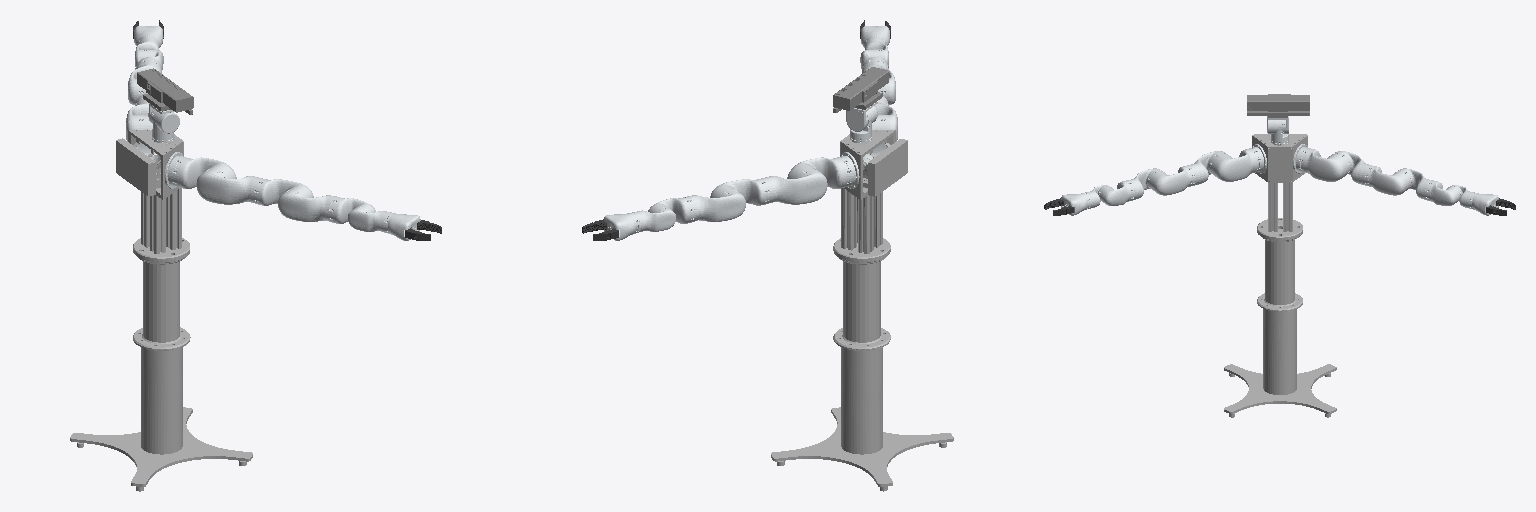
--- What the picture shows (computed from the rendered views, not written in the file) ---
3 views of the same robot in one strip: view 1: azimuth 30°, elevation 25°; view 2: azimuth 150°, elevation 25°; view 3: azimuth 270°, elevation 25° (orthographic).
Robot: mrp2a — 28 links, 27 joints (20 revolute, 7 fixed); root link world; default pose: every joint at zero.
Visible links, largest first — view 1: base_link, R_Link2, Camera_Link, R_Link4, R_Link1, R_Link3, R_Link6, H_Link1, R_Link5, R_Link7, L_Link4; view 2: base_link, L_Link2, Camera_Link, L_Link4, L_Link1, L_Link3, L_Link6, L_Link5, L_Link7; view 3: base_link, Camera_Link, L_Link1, R_Link1, R_Link3, L_Link3, L_Link5, R_Link5, R_Link2, L_Link2.
Link boxes in pixels (<box>): base_link: <box>70,130,252,491</box>; R_Link2: <box>196,169,263,204</box>; Camera_Link: <box>137,68,193,114</box>; R_Link4: <box>278,191,338,222</box>; R_Link1: <box>174,157,236,188</box>; R_Link3: <box>256,179,313,205</box>; R_Link6: <box>348,208,391,232</box>; H_Link1: <box>152,111,179,140</box>; R_Link5: <box>331,197,375,223</box>; R_Link7: <box>386,213,420,240</box>; L_Link4: <box>128,60,161,104</box>; base_link: <box>771,130,953,491</box>; L_Link2: <box>761,169,827,204</box>; Camera_Link: <box>833,67,888,112</box>; L_Link4: <box>685,191,745,222</box>; L_Link1: <box>787,157,849,188</box>; L_Link3: <box>710,179,767,205</box>; L_Link6: <box>632,208,675,232</box>; L_Link5: <box>648,197,692,223</box>; L_Link7: <box>604,213,637,240</box>; base_link: <box>1224,134,1336,417</box>; Camera_Link: <box>1247,94,1309,117</box>; L_Link1: <box>1301,148,1349,181</box>; R_Link1: <box>1210,148,1258,181</box>; R_Link3: <box>1148,166,1192,195</box>; L_Link3: <box>1367,166,1410,195</box>; L_Link5: <box>1427,180,1460,205</box>; R_Link5: <box>1099,180,1132,205</box>; R_Link2: <box>1187,151,1225,185</box>; L_Link2: <box>1334,151,1372,185</box>.
Bounding box of the posed robot: 0.7408 × 1.88 × 1.32 m (x, y, z).
25 mesh visuals loaded from 25 distinct referenced files (25 binary STL).

URDF robot description (mrp2a):
<robot
  name="mrp2a">
  <!-- <link 
    name="base_dummy">
    <visual>
      <origin
        xyz="0 0 0"
        rpy="0 0 0" />
      <geometry>
        <cylinder length="1" radius="0.05" />
      </geometry>
      <material
        name="">
        <color
          rgba="0.752941176470588 0.752941176470588 0.752941176470588 1" />
      </material>
    </visual>
    <collision>
      <origin
        xyz="0 0 0"
        rpy="0 0 0" />
      <geometry>
          <cylinder length="1" radius="0.08" />
      </geometry>
    </collision>
  </link>

  <joint
    name="dummy_fixed"
    type="fixed">
    <origin
      xyz="0 0 0"
      rpy="0 0 0" />
    <parent
      link="base_dummy" />
    <child
      link="base_link" />
    <axis
      xyz="0 0 0" />
  </joint> -->

  <link name="world" />
  <joint name="fixed_world" type="fixed">
  <origin
      xyz="0 0 0"
      rpy="0 0 0" />
  <parent link="world" />
  <child link="base_link" />
  <axis
      xyz="0 0 0" />
  </joint>

  <link
    name="base_link">
    <inertial>
      <origin
        xyz="0.0116056401155761 7.62263465240557E-06 0.417492200672716"
        rpy="0 0 0" />
      <mass
        value="503.167445829256" />
      <inertia
        ixx="39.5687611689678"
        ixy="-0.00180154710849991"
        ixz="-3.1866125593707"
        iyy="92.0490260945021"
        iyz="-0.000604913937372381"
        izz="76.9358059123522" />
    </inertial>
    <visual>
      <origin
        xyz="0 -0.225 -0.35"
        rpy="0 0 0" />
      <geometry>
        <mesh
          filename="package://robot_rviz/meshes/base_link.STL" />
      </geometry>
      <material
        name="">
        <color
          rgba="0.752941176470588 0.752941176470588 0.752941176470588 1" />
      </material>
    </visual>
    <collision>
      <origin
        xyz="0 0 0"
        rpy="0 0 0" />
      <geometry>
        <mesh
          filename="package://robot_rviz/meshes/base_link.STL" />
      </geometry>
    </collision>
  </link>
  <link
    name="L_Link0">
    <inertial>
      <origin
        xyz="-5.00532948422006E-11 -2.57285631688475E-09 0.00789253736797313"
        rpy="0 0 0" />
      <mass
        value="0.223472954734355" />
      <inertia
        ixx="0.000300898395929938"
        ixy="3.61000742934634E-12"
        ixz="6.57618311567675E-12"
        iyy="0.000300898393145345"
        iyz="5.92615943839112E-12"
        izz="0.000558427149998242" />
    </inertial>
    <visual>
      <origin
        xyz="0 0 0"
        rpy="0 0 0" />
      <geometry>
        <mesh
          filename="package://robot_rviz/meshes/L_Link0.STL" />
      </geometry>
      <material
        name="">
        <color
          rgba="0.898039215686275 0.917647058823529 0.929411764705882 1" />
      </material>
    </visual>
    <collision>
      <origin
        xyz="0 0 0"
        rpy="0 0 0" />
      <geometry>
        <mesh
          filename="package://robot_rviz/meshes/L_Link0.STL" />
      </geometry>
    </collision>
  </link>
  <joint
    name="L_fixed"
    type="fixed">
    <origin
      xyz="0.401541651245978 0.0802868417743912 1.04027148358762"
      rpy="1.0471975511966 1.5707963267949 2.0943951023931954923084289221863" />
    <parent
      link="base_link" />
    <child
      link="L_Link0" />
    <axis
      xyz="0 0 0" />
  </joint>
  <link
    name="L_Link1">
    <inertial>
      <origin
        xyz="-5.61077310687885E-05 -0.0142951350447805 0.0860645138410713"
        rpy="0 0 0" />
      <mass
        value="0.479797701810757" />
      <inertia
        ixx="0.00187210715339315"
        ixy="8.48856757722259E-08"
        ixz="7.55666114448996E-07"
        iyy="0.00195379452614282"
        iyz="0.000126977076625014"
        izz="0.000895037663038882" />
    </inertial>
    <visual>
      <origin
        xyz="0 0 0"
        rpy="0 0 0" />
      <geometry>
        <mesh
          filename="package://robot_rviz/meshes/L_Link1.STL" />
      </geometry>
      <material
        name="">
        <color
          rgba="0.898039215686275 0.917647058823529 0.929411764705882 1" />
      </material>
    </visual>
    <collision>
      <origin
        xyz="0 0 0"
        rpy="0 0 0" />
      <geometry>
        <mesh
          filename="package://robot_rviz/meshes/L_Link1.STL" />
      </geometry>
    </collision>
  </link>
  <joint
    name="L_Joint1"
    type="revolute">
    <origin
      xyz="0 0 0.0306"
      rpy="-1.7271E-28 1.5777E-30 3.1554E-30" />
    <parent
      link="L_Link0" />
    <child
      link="L_Link1" />
    <axis
      xyz="0 0 1" />
    <limit
      lower="-3.05"
      upper="3.05"
      effort="0"
      velocity="0" />
  </joint>
  <link
    name="L_Link2">
    <inertial>
      <origin
        xyz="-4.22647804732001E-06 -0.0686708494012157 0.0295427733613017"
        rpy="0 0 0" />
      <mass
        value="0.446126751687594" />
      <inertia
        ixx="0.0021734105386687"
        ixy="2.61059381798853E-07"
        ixz="1.55145893440584E-07"
        iyy="0.000851447231000872"
        iyz="-0.000558302793053726"
        izz="0.00206962716215443" />
    </inertial>
    <visual>
      <origin
        xyz="0 0 0"
        rpy="0 0 0" />
      <geometry>
        <mesh
          filename="package://robot_rviz/meshes/L_Link2.STL" />
      </geometry>
      <material
        name="">
        <color
          rgba="0.898039215686275 0.917647058823529 0.929411764705882 1" />
      </material>
    </visual>
    <collision>
      <origin
        xyz="0 0 0"
        rpy="0 0 0" />
      <geometry>
        <mesh
          filename="package://robot_rviz/meshes/L_Link2.STL" />
      </geometry>
    </collision>
  </link>
  <joint
    name="L_Joint2"
    type="revolute">
    <origin
      xyz="0 0 0.1339"
      rpy="-1.5708 -6.8784E-15 -1.1914E-14" />
    <parent
      link="L_Link1" />
    <child
      link="L_Link2" />
    <axis
      xyz="0 0 1" />
    <limit
      lower="-2.09"
      upper="2.09"
      effort="0"
      velocity="0" />
  </joint>
  <link
    name="L_Link3">
    <inertial>
      <origin
        xyz="-1.75115454241759E-05 -0.0148352799501194 0.082413004478926"
        rpy="0 0 0" />
      <mass
        value="0.369753275800124" />
      <inertia
        ixx="0.00123779807162089"
        ixy="1.74416777990343E-07"
        ixz="4.028833173977E-07"
        iyy="0.00125673245406666"
        iyz="6.76623645400115E-05"
        izz="0.000517699412118933" />
    </inertial>
    <visual>
      <origin
        xyz="0 0 0"
        rpy="0 0 0" />
      <geometry>
        <mesh
          filename="package://robot_rviz/meshes/L_Link3.STL" />
      </geometry>
      <material
        name="">
        <color
          rgba="0.898039215686275 0.917647058823529 0.929411764705882 1" />
      </material>
    </visual>
    <collision>
      <origin
        xyz="0 0 0"
        rpy="0 0 0" />
      <geometry>
        <mesh
          filename="package://robot_rviz/meshes/L_Link3.STL" />
      </geometry>
    </collision>
  </link>
  <joint
    name="L_Joint3"
    type="revolute">
    <origin
      xyz="0 -0.1659 0"
      rpy="1.5708 -1.3171E-14 7.6043E-15" />
    <parent
      link="L_Link2" />
    <child
      link="L_Link3" />
    <axis
      xyz="0 0 1" />
    <limit
      lower="-3.05"
      upper="3.05"
      effort="0"
      velocity="0" />
  </joint>
  <link
    name="L_Link4">
    <inertial>
      <origin
        xyz="-4.19589093851869E-05 -0.0676706530569938 0.0261728375420073"
        rpy="0 0 0" />
      <mass
        value="0.299022063834013" />
      <inertia
        ixx="0.0012651326585819"
        ixy="6.76171354607222E-07"
        ixz="1.79150192674022E-07"
        iyy="0.000483979249770282"
        iyz="-0.00032793976986134"
        izz="0.00121028828173017" />
    </inertial>
    <visual>
      <origin
        xyz="0 0 0"
        rpy="0 0 0" />
      <geometry>
        <mesh
          filename="package://robot_rviz/meshes/L_Link4.STL" />
      </geometry>
      <material
        name="">
        <color
          rgba="0.898039215686275 0.917647058823529 0.929411764705882 1" />
      </material>
    </visual>
    <collision>
      <origin
        xyz="0 0 0"
        rpy="0 0 0" />
      <geometry>
        <mesh
          filename="package://robot_rviz/meshes/L_Link4.STL" />
      </geometry>
    </collision>
  </link>
  <joint
    name="L_Joint4"
    type="revolute">
    <origin
      xyz="0 0 0.1261"
      rpy="-1.5708 -7.9726E-15 -1.3809E-14" />
    <parent
      link="L_Link3" />
    <child
      link="L_Link4" />
    <axis
      xyz="0 0 1" />
    <limit
      lower="-2.09"
      upper="2.09"
      effort="0"
      velocity="0" />
  </joint>
  <link
    name="L_Link5">
    <inertial>
      <origin
        xyz="-2.79984826012658E-05 -0.0111127966196358 0.0529842469650915"
        rpy="0 0 0" />
      <mass
        value="0.210105102195468" />
      <inertia
        ixx="0.000430632583535674"
        ixy="-1.37633239033165E-07"
        ixz="-9.75907473549485E-08"
        iyy="0.000426925124477024"
        iyz="5.35966809682189E-05"
        izz="0.000253639705799832" />
    </inertial>
    <visual>
      <origin
        xyz="0 0 0"
        rpy="0 0 0" />
      <geometry>
        <mesh
          filename="package://robot_rviz/meshes/L_Link5.STL" />
      </geometry>
      <material
        name="">
        <color
          rgba="0.898039215686275 0.917647058823529 0.929411764705882 1" />
      </material>
    </visual>
    <collision>
      <origin
        xyz="0 0 0"
        rpy="0 0 0" />
      <geometry>
        <mesh
          filename="package://robot_rviz/meshes/L_Link5.STL" />
      </geometry>
    </collision>
  </link>
  <joint
    name="L_Joint5"
    type="revolute">
    <origin
      xyz="0 -0.1509 0"
      rpy="1.5708 -1.2856E-14 7.4225E-15" />
    <parent
      link="L_Link4" />
    <child
      link="L_Link5" />
    <axis
      xyz="0 0 1" />
    <limit
      lower="-3.05"
      upper="3.05"
      effort="0"
      velocity="0" />
  </joint>
  <link
    name="L_Link6">
    <inertial>
      <origin
        xyz="6.61440654838863E-05 -0.0464092033770266 0.0142998926979978"
        rpy="0 0 0" />
      <mass
        value="0.152365938496062" />
      <inertia
        ixx="0.000333790388227261"
        ixy="3.85008350227527E-07"
        ixz="2.41753193395084E-07"
        iyy="0.000148214197619039"
        iyz="-7.54134369610282E-05"
        izz="0.000326788645546282" />
    </inertial>
    <visual>
      <origin
        xyz="0 0 0"
        rpy="0 0 0" />
      <geometry>
        <mesh
          filename="package://robot_rviz/meshes/L_Link6.STL" />
      </geometry>
      <material
        name="">
        <color
          rgba="0.898039215686275 0.917647058823529 0.929411764705882 1" />
      </material>
    </visual>
    <collision>
      <origin
        xyz="0 0 0"
        rpy="0 0 0" />
      <geometry>
        <mesh
          filename="package://robot_rviz/meshes/L_Link6.STL" />
      </geometry>
    </collision>
  </link>
  <joint
    name="L_Joint6"
    type="revolute">
    <origin
      xyz="0 0 0.0911"
      rpy="-1.5708 -7.2318E-15 -1.2526E-14" />
    <parent
      link="L_Link5" />
    <child
      link="L_Link6" />
    <axis
      xyz="0 0 1" />
    <limit
      lower="-2.09"
      upper="2.09"
      effort="0"
      velocity="0" />
  </joint>
  <link
    name="L_Link7">
    <inertial>
      <origin
        xyz="-3.35699649318677E-05 -2.8130055156339E-06 0.0435230606728521"
        rpy="0 0 0" />
      <mass
        value="0.189866448136334" />
      <inertia
        ixx="0.000273665673510358"
        ixy="2.19757511429631E-08"
        ixz="4.14753854628336E-08"
        iyy="0.000241558936433134"
        iyz="1.55856396916136E-08"
        izz="0.000241433839895286" />
    </inertial>
    <visual>
      <origin
        xyz="0 0 0"
        rpy="0 0 0" />
      <geometry>
        <mesh
          filename="package://robot_rviz/meshes/L_Link7.STL" />
      </geometry>
      <material
        name="">
        <color
          rgba="0.898039215686275 0.917647058823529 0.929411764705882 1" />
      </material>
    </visual>
    <collision>
      <origin
        xyz="0 0 0"
        rpy="0 0 0" />
      <geometry>
        <mesh
          filename="package://robot_rviz/meshes/L_Link7.STL" />
      </geometry>
    </collision>
  </link>
  <joint
    name="L_Joint7"
    type="revolute">
    <origin
      xyz="0 -0.1069 0"
      rpy="1.5708 -1.2729E-14 7.3492E-15" />
    <parent
      link="L_Link6" />
    <child
      link="L_Link7" />
    <axis
      xyz="0 0 1" />
    <limit
      lower="-3.05"
      upper="3.05"
      effort="0"
      velocity="0" />
  </joint>
  <link
    name="L_left_finger">
    <inertial>
      <origin
        xyz="0.0344260864003008 0.010909869016838 1.2293463802493E-08"
        rpy="0 0 0" />
      <mass
        value="0.0476700444491017" />
      <inertia
        ixx="5.21235147485969E-06"
        ixy="1.63723669343646E-07"
        ixz="1.90271401200849E-11"
        iyy="3.02971293146477E-05"
        iyz="-6.15604627115701E-12"
        izz="2.85611105712804E-05" />
    </inertial>
    <visual>
      <origin
        xyz="0 0 0"
        rpy="0 0 0" />
      <geometry>
        <mesh
          filename="package://robot_rviz/meshes/L_left_finger.STL" />
      </geometry>
      <material
        name="">
        <color
          rgba="0.298039215686275 0.298039215686275 0.298039215686275 1" />
      </material>
    </visual>
    <collision>
      <origin
        xyz="0 0 0"
        rpy="0 0 0" />
      <geometry>
        <mesh
          filename="package://robot_rviz/meshes/L_left_finger.STL" />
      </geometry>
    </collision>
  </link>
  <joint
    name="L_left_joint"
    type="revolute">
    <origin
      xyz="0 0.028 0.0806"
      rpy="-1.5708 -1.5653 1.5708" />
    <parent
      link="L_Link7" />
    <child
      link="L_left_finger" />
    <axis
      xyz="0 0 1" />
    <limit
      lower="-1.57"
      upper="1.57"
      effort="0"
      velocity="0" />
  </joint>
  <link
    name="L_right_finger">
    <inertial>
      <origin
        xyz="0.0343738108391702 -0.0114248408797415 -1.15433491654215E-08"
        rpy="0 0 0" />
      <mass
        value="0.0476700572031979" />
      <inertia
        ixx="5.1384484209657E-06"
        ixy="6.56366148953293E-07"
        ixz="-2.5753435705972E-11"
        iyy="3.02664921090384E-05"
        iyz="-5.71395212742962E-12"
        izz="2.84565694707725E-05" />
    </inertial>
    <visual>
      <origin
        xyz="0 0 0"
        rpy="0 0 0" />
      <geometry>
        <mesh
          filename="package://robot_rviz/meshes/L_right_finger.STL" />
      </geometry>
      <material
        name="">
        <color
          rgba="0.298039215686275 0.298039215686275 0.298039215686275 1" />
      </material>
    </visual>
    <collision>
      <origin
        xyz="0 0 0"
        rpy="0 0 0" />
      <geometry>
        <mesh
          filename="package://robot_rviz/meshes/L_right_finger.STL" />
      </geometry>
    </collision>
  </link>
  <joint
    name="L_right_joint"
    type="revolute">
    <origin
      xyz="0 -0.028 0.0806"
      rpy="-1.5708 -1.5599 1.5708" />
    <parent
      link="L_Link7" />
    <child
      link="L_right_finger" />
    <axis
      xyz="0 0 1" />
    <limit
      lower="-1.57"
      upper="1.57"
      effort="0"
      velocity="0" />
  </joint>
  <link
    name="L_ee" />
  <joint
    name="L_end_fixed"
    type="fixed">
    <origin
      xyz="0 0 0.165"
      rpy="-1.82997712798868E-28 0 -3.15544362088405E-30" />
    <parent
      link="L_Link7" />
    <child
      link="L_ee" />
    <axis
      xyz="0 0 0" />
  </joint>
  <link
    name="R_Link0">
    <inertial>
      <origin
        xyz="-5.00535168868055E-11 -2.57285659444051E-09 0.00789253736797302"
        rpy="0 0 0" />
      <mass
        value="0.223472954734356" />
      <inertia
        ixx="0.000300898395929939"
        ixy="3.6100072822455E-12"
        ixz="6.57618405467455E-12"
        iyy="0.000300898393145346"
        iyz="5.9261598856246E-12"
        izz="0.000558427149998244" />
    </inertial>
    <visual>
      <origin
        xyz="0 0 0"
        rpy="0 0 0" />
      <geometry>
        <mesh
          filename="package://robot_rviz/meshes/R_Link0.STL" />
      </geometry>
      <material
        name="">
        <color
          rgba="0.898039215686275 0.917647058823529 0.929411764705882 1" />
      </material>
    </visual>
    <collision>
      <origin
        xyz="0 0 0"
        rpy="0 0 0" />
      <geometry>
        <mesh
          filename="package://robot_rviz/meshes/R_Link0.STL" />
      </geometry>
    </collision>
  </link>
  <joint
    name="R_fixed"
    type="fixed">
    <origin
      xyz="0.40154 -0.080287 1.0403"
      rpy="1.0472 -1.5708 1.0471975511965977461542144610932" />
    <parent
      link="base_link" />
    <child
      link="R_Link0" />
    <axis
      xyz="0 0 0" />
  </joint>
  <link
    name="R_Link1">
    <inertial>
      <origin
        xyz="-5.61072148668185E-05 -0.0142951353992923 0.0861636477119259"
        rpy="0 0 0" />
      <mass
        value="0.479797742374358" />
      <inertia
        ixx="0.00187210719283673"
        ixy="8.49019868743665E-08"
        ixz="7.55626229620109E-07"
        iyy="0.00195379460117118"
        iyz="0.000126977101176485"
        izz="0.000895037720805486" />
    </inertial>
    <visual>
      <origin
        xyz="0 0 0"
        rpy="0 0 0" />
      <geometry>
        <mesh
          filename="package://robot_rviz/meshes/R_Link1.STL" />
      </geometry>
      <material
        name="">
        <color
          rgba="0.898039215686275 0.917647058823529 0.929411764705882 1" />
      </material>
    </visual>
    <collision>
      <origin
        xyz="0 0 0"
        rpy="0 0 0" />
      <geometry>
        <mesh
          filename="package://robot_rviz/meshes/R_Link1.STL" />
      </geometry>
    </collision>
  </link>
  <joint
    name="R_Joint1"
    type="revolute">
    <origin
      xyz="0 0 0.030501"
      rpy="-7.3566E-28 -3.1554E-30 3.9782E-14" />
    <parent
      link="R_Link0" />
    <child
      link="R_Link1" />
    <axis
      xyz="0 0 1" />
    <limit
      lower="-3.05"
      upper="3.05"
      effort="0"
      velocity="0" />
  </joint>
  <link
    name="R_Link2">
    <inertial>
      <origin
        xyz="-4.23559618156766E-06 -0.0686708524722193 0.0295427694562012"
        rpy="0 0 0" />
      <mass
        value="0.446126638336131" />
      <inertia
        ixx="0.00217341040951626"
        ixy="2.61085934763301E-07"
        ixz="1.55189970462644E-07"
        iyy="0.00085144701302756"
        iyz="-0.000558302708861282"
        izz="0.00206962697259797" />
    </inertial>
    <visual>
      <origin
        xyz="0 0 0"
        rpy="0 0 0" />
      <geometry>
        <mesh
          filename="package://robot_rviz/meshes/R_Link2.STL" />
      </geometry>
      <material
        name="">
        <color
          rgba="0.898039215686275 0.917647058823529 0.929411764705882 1" />
      </material>
    </visual>
    <collision>
      <origin
        xyz="0 0 0"
        rpy="0 0 0" />
      <geometry>
        <mesh
          filename="package://robot_rviz/meshes/R_Link2.STL" />
      </geometry>
    </collision>
  </link>
  <joint
    name="R_Joint2"
    type="revolute">
    <origin
      xyz="0 0 0.134"
      rpy="-1.5708 -2.2968E-14 -3.9782E-14" />
    <parent
      link="R_Link1" />
    <child
      link="R_Link2" />
    <axis
      xyz="0 0 1" />
    <limit
      lower="-2.09"
      upper="2.09"
      effort="0"
      velocity="0" />
  </joint>
  <link
    name="R_Link3">
    <inertial>
      <origin
        xyz="-1.74956927427861E-05 -0.0148360675202772 0.0824136347131282"
        rpy="0 0 0" />
      <mass
        value="0.369749907628908" />
      <inertia
        ixx="0.00123777240608711"
        ixy="1.77510255388424E-07"
        ixz="4.01191203097331E-07"
        iyy="0.00125672179257768"
        iyz="6.76484823504997E-05"
        izz="0.000517689455158085" />
    </inertial>
    <visual>
      <origin
        xyz="0 0 0"
        rpy="0 0 0" />
      <geometry>
        <mesh
          filename="package://robot_rviz/meshes/R_Link3.STL" />
      </geometry>
      <material
        name="">
        <color
          rgba="0.898039215686275 0.917647058823529 0.929411764705882 1" />
      </material>
    </visual>
    <collision>
      <origin
        xyz="0 0 0"
        rpy="0 0 0" />
      <geometry>
        <mesh
          filename="package://robot_rviz/meshes/R_Link3.STL" />
      </geometry>
    </collision>
  </link>
  <joint
    name="R_Joint3"
    type="revolute">
    <origin
      xyz="0 -0.1659 0"
      rpy="1.5708 0 2.2787E-14" />
    <parent
      link="R_Link2" />
    <child
      link="R_Link3" />
    <axis
      xyz="0 0 1" />
    <limit
      lower="-3.05"
      upper="3.05"
      effort="0"
      velocity="0" />
  </joint>
  <link
    name="R_Link4">
    <inertial>
      <origin
        xyz="-4.03927185324005E-05 -0.0676666958651468 0.026172576483824"
        rpy="0 0 0" />
      <mass
        value="0.298987763986855" />
      <inertia
        ixx="0.00126508843566398"
        ixy="6.95308562925535E-07"
        ixz="1.79322052937203E-07"
        iyy="0.000483969302599261"
        iyz="-0.000327943370852257"
        izz="0.00121023700357796" />
    </inertial>
    <visual>
      <origin
        xyz="0 0 0"
        rpy="0 0 0" />
      <geometry>
        <mesh
          filename="package://robot_rviz/meshes/R_Link4.STL" />
      </geometry>
      <material
        name="">
        <color
          rgba="0.898039215686275 0.917647058823529 0.929411764705882 1" />
      </material>
    </visual>
    <collision>
      <origin
        xyz="0 0 0"
        rpy="0 0 0" />
      <geometry>
        <mesh
          filename="package://robot_rviz/meshes/R_Link4.STL" />
      </geometry>
    </collision>
  </link>
  <joint
    name="R_Joint4"
    type="revolute">
    <origin
      xyz="0 0 0.1261"
      rpy="-1.5708 -2.2739E-14 8.2815E-17" />
    <parent
      link="R_Link3" />
    <child
      link="R_Link4" />
    <axis
      xyz="0 0 1" />
    <limit
      lower="-2.09"
      upper="2.09"
      effort="0"
      velocity="0" />
  </joint>
  <link
    name="R_Link5">
    <inertial>
      <origin
        xyz="-2.80211401295638E-05 -0.0111127907440283 0.05298419196174"
        rpy="0 0 0" />
      <mass
        value="0.210105699117219" />
      <inertia
        ixx="0.000430632859994774"
        ixy="-1.37813721268546E-07"
        ixz="-9.75407365432049E-08"
        iyy="0.000426925932400006"
        iyz="5.35967160781164E-05"
        izz="0.000253640383214066" />
    </inertial>
    <visual>
      <origin
        xyz="0 0 0"
        rpy="0 0 0" />
      <geometry>
        <mesh
          filename="package://robot_rviz/meshes/R_Link5.STL" />
      </geometry>
      <material
        name="">
        <color
          rgba="0.898039215686275 0.917647058823529 0.929411764705882 1" />
      </material>
    </visual>
    <collision>
      <origin
        xyz="0 0 0"
        rpy="0 0 0" />
      <geometry>
        <mesh
          filename="package://robot_rviz/meshes/R_Link5.STL" />
      </geometry>
    </collision>
  </link>
  <joint
    name="R_Joint5"
    type="revolute">
    <origin
      xyz="0 -0.1509 0"
      rpy="1.5708 7.8886E-31 2.2312E-14" />
    <parent
      link="R_Link4" />
    <child
      link="R_Link5" />
    <axis
      xyz="0 0 1" />
    <limit
      lower="-3.05"
      upper="3.05"
      effort="0"
      velocity="0" />
  </joint>
  <link
    name="R_Link6">
    <inertial>
      <origin
        xyz="6.61343351426869E-05 -0.0464091972860603 0.0142999050044847"
        rpy="0 0 0" />
      <mass
        value="0.152366153036449" />
      <inertia
        ixx="0.000333790419008713"
        ixy="3.85019793889823E-07"
        ixz="2.41769601081134E-07"
        iyy="0.000148214222108908"
        iyz="-7.54134467876615E-05"
        izz="0.000326788654436392" />
    </inertial>
    <visual>
      <origin
        xyz="0 0 0"
        rpy="0 0 0" />
      <geometry>
        <mesh
          filename="package://robot_rviz/meshes/R_Link6.STL" />
      </geometry>
      <material
        name="">
        <color
          rgba="0.898039215686275 0.917647058823529 0.929411764705882 1" />
      </material>
    </visual>
    <collision>
      <origin
        xyz="0 0 0"
        rpy="0 0 0" />
      <geometry>
        <mesh
          filename="package://robot_rviz/meshes/R_Link6.STL" />
      </geometry>
    </collision>
  </link>
  <joint
    name="R_Joint6"
    type="revolute">
    <origin
      xyz="0 0 0.0911"
      rpy="-1.5708 -2.2606E-14 -5.0854E-16" />
    <parent
      link="R_Link5" />
    <child
      link="R_Link6" />
    <axis
      xyz="0 0 1" />
    <limit
      lower="-2.09"
      upper="2.09"
      effort="0"
      velocity="0" />
  </joint>
  <link
    name="R_Link7">
    <inertial>
      <origin
        xyz="-3.36427732410272E-05 -2.82520635752626E-06 0.0435230300782323"
        rpy="0 0 0" />
      <mass
        value="0.189865036836604" />
      <inertia
        ixx="0.000273664094867029"
        ixy="2.18373863900876E-08"
        ixz="4.1489683406968E-08"
        iyy="0.000241557785608958"
        iyz="1.55686748855343E-08"
        izz="0.00024143314655356" />
    </inertial>
    <visual>
      <origin
        xyz="0 0 0"
        rpy="0 0 0" />
      <geometry>
        <mesh
          filename="package://robot_rviz/meshes/R_Link7.STL" />
      </geometry>
      <material
        name="">
        <color
          rgba="0.898039215686275 0.917647058823529 0.929411764705882 1" />
      </material>
    </visual>
    <collision>
      <origin
        xyz="0 0 0"
        rpy="0 0 0" />
      <geometry>
        <mesh
          filename="package://robot_rviz/meshes/R_Link7.STL" />
      </geometry>
    </collision>
  </link>
  <joint
    name="R_Joint7"
    type="revolute">
    <origin
      xyz="0 -0.1069 0"
      rpy="1.5708 -3.9489E-14 2.2799E-14" />
    <parent
      link="R_Link6" />
    <child
      link="R_Link7" />
    <axis
      xyz="0 0 1" />
    <limit
      lower="-3.05"
      upper="3.05"
      effort="0"
      velocity="0" />
  </joint>
  <link
    name="R_left_finger">
    <inertial>
      <origin
        xyz="0.0343738108375109 0.011424840880201 1.15440119685672E-08"
        rpy="0 0 0" />
      <mass
        value="0.0476700572006745" />
      <inertia
        ixx="5.13844842057685E-06"
        ixy="-6.56366149774326E-07"
        ixz="2.5752481464042E-11"
        iyy="3.02664921062085E-05"
        iyz="-5.71380286445829E-12"
        izz="2.84565694679184E-05" />
    </inertial>
    <visual>
      <origin
        xyz="0 0 0"
        rpy="0 0 0" />
      <geometry>
        <mesh
          filename="package://robot_rviz/meshes/R_left_finger.STL" />
      </geometry>
      <material
        name="">
        <color
          rgba="0.298039215686275 0.298039215686275 0.298039215686275 1" />
      </material>
    </visual>
    <collision>
      <origin
        xyz="0 0 0"
        rpy="0 0 0" />
      <geometry>
        <mesh
          filename="package://robot_rviz/meshes/R_left_finger.STL" />
      </geometry>
    </collision>
  </link>
  <joint
    name="R_left_joint"
    type="revolute">
    <origin
      xyz="0 -0.028 0.0806"
      rpy="1.5708 -1.5599 1.5708" />
    <parent
      link="R_Link7" />
    <child
      link="R_left_finger" />
    <axis
      xyz="0 0 1" />
    <limit
      lower="-1.57"
      upper="1.57"
      effort="0"
      velocity="0" />
  </joint>
  <link
    name="R_right_finger">
    <inertial>
      <origin
        xyz="0.0344260865252215 -0.0109098689880262 -1.22142709280126E-08"
        rpy="0 0 0" />
      <mass
        value="0.0476700440441413" />
      <inertia
        ixx="5.21235145188848E-06"
        ixy="-1.63723591258123E-07"
        ixz="-1.61905546615493E-11"
        iyy="3.02971293915036E-05"
        iyz="-7.09495578575302E-12"
        izz="2.85611106972999E-05" />
    </inertial>
    <visual>
      <origin
        xyz="0 0 0"
        rpy="0 0 0" />
      <geometry>
        <mesh
          filename="package://robot_rviz/meshes/R_right_finger.STL" />
      </geometry>
      <material
        name="">
        <color
          rgba="0.298039215686275 0.298039215686275 0.298039215686275 1" />
      </material>
    </visual>
    <collision>
      <origin
        xyz="0 0 0"
        rpy="0 0 0" />
      <geometry>
        <mesh
          filename="package://robot_rviz/meshes/R_right_finger.STL" />
      </geometry>
    </collision>
  </link>
  <joint
    name="R_right_joint"
    type="revolute">
    <origin
      xyz="0 0.028 0.0806"
      rpy="1.5708 -1.5653 1.5708" />
    <parent
      link="R_Link7" />
    <child
      link="R_right_finger" />
    <axis
      xyz="0 0 1" />
    <limit
      lower="-1.57"
      upper="1.57"
      effort="0"
      velocity="0" />
  </joint>
  <link
    name="R_ee" />
  <joint
    name="R_end_fixed"
    type="fixed">
    <origin
      xyz="0 0 0.165"
      rpy="5.55111512305515E-17 0 6.31088724176809E-30" />
    <parent
      link="R_Link7" />
    <child
      link="R_ee" />
    <axis
      xyz="0 0 0" />
  </joint>
  <link
    name="H_Link0">
    <inertial>
      <origin
        xyz="1.36107769499461E-09 4.290221439617E-09 -0.00639346316465716"
        rpy="0 0 0" />
      <mass
        value="0.0763918845079565" />
      <inertia
        ixx="5.04101958248263E-05"
        ixy="8.4579057067866E-12"
        ixz="-1.49913777901785E-12"
        iyy="4.34000665061847E-05"
        iyz="-1.52482087848403E-12"
        izz="8.69734069790443E-05" />
    </inertial>
    <visual>
      <origin
        xyz="0 0 0"
        rpy="0 0 0" />
      <geometry>
        <mesh
          filename="package://robot_rviz/meshes/H_Link0.STL" />
      </geometry>
      <material
        name="">
        <color
          rgba="0.898039215686275 0.917647058823529 0.929411764705882 1" />
      </material>
    </visual>
    <collision>
      <origin
        xyz="0 0 0"
        rpy="0 0 0" />
      <geometry>
        <mesh
          filename="package://robot_rviz/meshes/H_Link0.STL" />
      </geometry>
    </collision>
  </link>
  <joint
    name="H_fixed"
    type="fixed">
    <origin
      xyz="0.409 0 1.1178"
      rpy="0 0 0" />
    <parent
      link="base_link" />
    <child
      link="H_Link0" />
    <axis
      xyz="0 0 0" />
  </joint>
  <link
    name="H_Link1">
    <inertial>
      <origin
        xyz="-4.15541416276533E-08 -0.0142975420780974 0.0567609337626374"
        rpy="0 0 0" />
      <mass
        value="0.28667747136121" />
      <inertia
        ixx="0.000397556799292656"
        ixy="2.20682177930424E-10"
        ixz="1.25895505007179E-11"
        iyy="0.000400782700456569"
        iyz="7.48489344216485E-05"
        izz="0.000304922211379593" />
    </inertial>
    <visual>
      <origin
        xyz="0 0 0"
        rpy="0 0 0" />
      <geometry>
        <mesh
          filename="package://robot_rviz/meshes/H_Link1.STL" />
      </geometry>
      <material
        name="">
        <color
          rgba="0.898039215686275 0.917647058823529 0.929411764705882 1" />
      </material>
    </visual>
    <collision>
      <origin
        xyz="0 0 0"
        rpy="0 0 0" />
      <geometry>
        <mesh
          filename="package://robot_rviz/meshes/H_Link1.STL" />
      </geometry>
    </collision>
  </link>
  <joint
    name="H_Joint1"
    type="revolute">
    <origin
      xyz="0 0 0"
      rpy="0 0 0" />
    <parent
      link="H_Link0" />
    <child
      link="H_Link1" />
    <axis
      xyz="0 0 1" />
    <limit
      lower="-3.05"
      upper="3.05"
      effort="0"
      velocity="0" />
  </joint>
  <link
    name="H_Link2">
    <inertial>
      <origin
        xyz="0.00018202111213661 -0.0193059285403403 0.0165439481842882"
        rpy="0 0 0" />
      <mass
        value="0.153627305853781" />
      <inertia
        ixx="0.000173781545127498"
        ixy="2.56924300822088E-07"
        ixz="3.60295130967165E-07"
        iyy="0.000146516684368541"
        iyz="-3.82332929847883E-05"
        izz="0.000174118139124197" />
    </inertial>
    <visual>
      <origin
        xyz="0 0 0"
        rpy="0 0 0" />
      <geometry>
        <mesh
          filename="package://robot_rviz/meshes/H_Link2.STL" />
      </geometry>
      <material
        name="">
        <color
          rgba="0.898039215686275 0.917647058823529 0.929411764705882 1" />
      </material>
    </visual>
    <collision>
      <origin
        xyz="0 0 0"
        rpy="0 0 0" />
      <geometry>
        <mesh
          filename="package://robot_rviz/meshes/H_Link2.STL" />
      </geometry>
    </collision>
  </link>
  <joint
    name="H_Joint2"
    type="revolute">
    <origin
      xyz="0 0 0.073"
      rpy="-1.5708 0 1.2152E-14" />
    <parent
      link="H_Link1" />
    <child
      link="H_Link2" />
    <axis
      xyz="0 0 1" />
    <limit
      lower="-1.57"
      upper="1.57"
      effort="0"
      velocity="0" />
  </joint>
  <link
    name="Camera_Link">
    <inertial>
      <origin
        xyz="0.0019019181669051 -0.0068237134368753 0.0509308504895079"
        rpy="0 0 0" />
      <mass
        value="0.953411732634247" />
      <inertia
        ixx="0.00445080229807094"
        ixy="1.20806708592138E-06"
        ixz="-3.00544612815069E-06"
        iyy="0.000764093380363349"
        iyz="-8.19747632936745E-07"
        izz="0.0045157223560275" />
    </inertial>
    <visual>
      <origin
        xyz="0 0 0"
        rpy="0 0 0" />
      <geometry>
        <mesh
          filename="package://robot_rviz/meshes/Camera_Link.STL" />
      </geometry>
      <material
        name="">
        <color
          rgba="0.6 0.6 0.6 1" />
      </material>
    </visual>
    <collision>
      <origin
        xyz="0 0 0"
        rpy="0 0 0" />
      <geometry>
        <mesh
          filename="package://robot_rviz/meshes/Camera_Link.STL" />
      </geometry>
    </collision>
  </link>
  <joint
    name="Camera_fixed"
    type="fixed">
    <origin
      xyz="0.000376967585380028 -0.0399982236535521 0"
      rpy="1.57079632679491 1.21517379492177E-14 2.09209165761488E-28" />
    <parent
      link="H_Link2" />
    <child
      link="Camera_Link" />
    <axis
      xyz="0 0 0" />
  </joint>
</robot>
